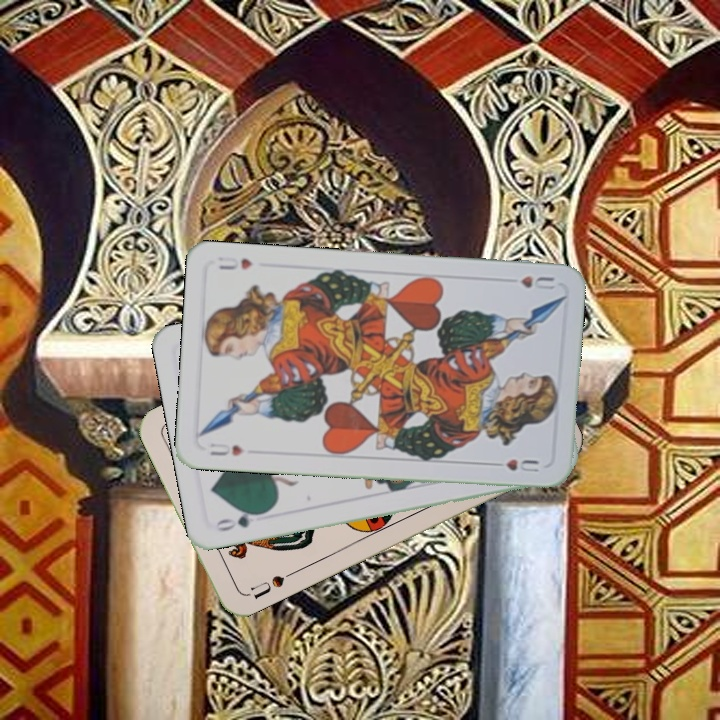GO: (211, 507, 268, 534)
HU: (205, 439, 247, 459), (516, 272, 558, 292)
SU: (246, 567, 298, 602)
